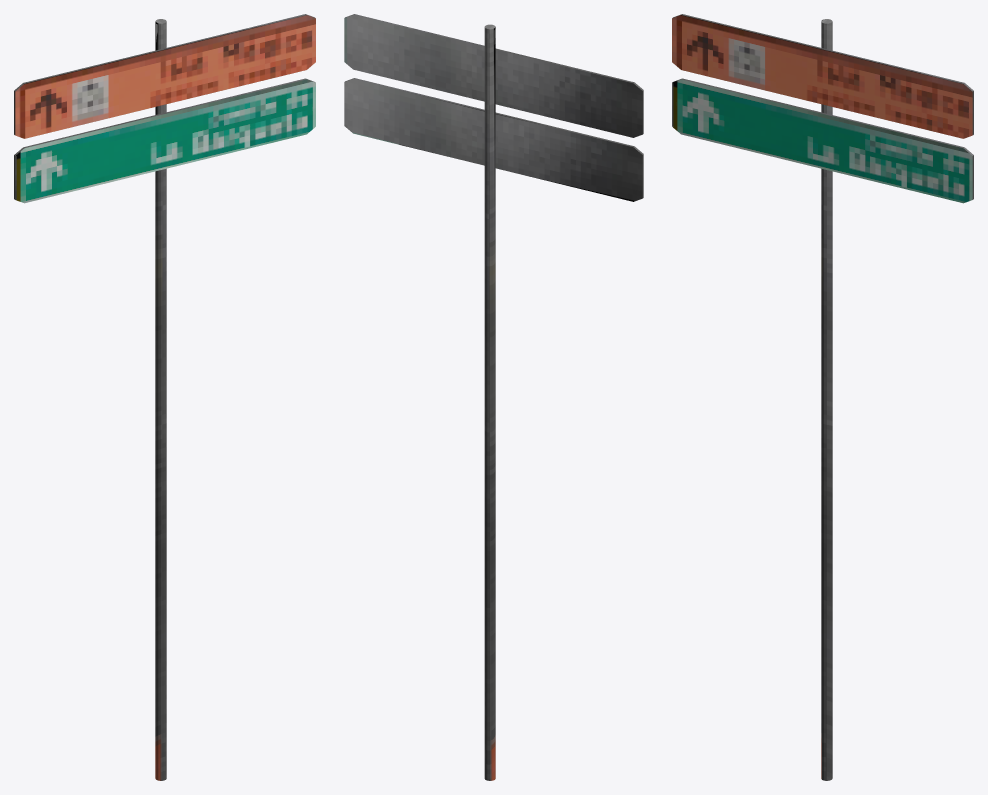
The model's file is SeñalesDireccion_1.fbx.
The picture shows the model from 3 angles, left to right: view 1: azimuth 30°, elevation 25°; view 2: azimuth 150°, elevation 25°; view 3: azimuth 330°, elevation 25°; orthographic projection.
Visible parts, largest first — view 1: Señal_ubicacion; view 2: Señal_ubicacion; view 3: Señal_ubicacion.
Boxes of the visible parts, x1=… form: Señal_ubicacion: x1=14, y1=14, x2=315, y2=780; Señal_ubicacion: x1=344, y1=14, x2=643, y2=780; Señal_ubicacion: x1=672, y1=14, x2=973, y2=780.
Size of the model in its own units: 61.16 by 147 by 2.6.
